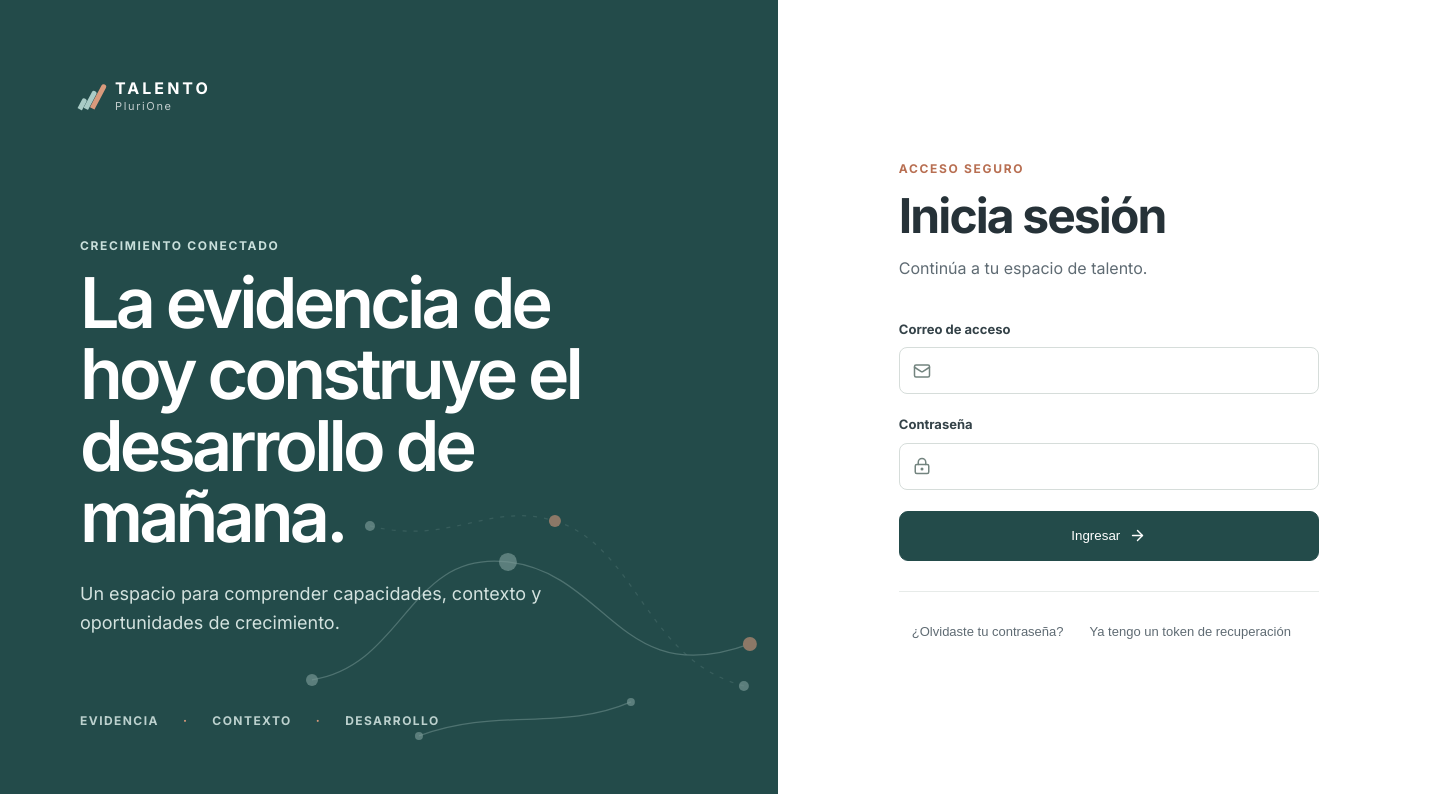
App — rol RH › RH no entra a Mi progreso
The width and height of the screenshot is (1440, 794).
Type "persona@empresa.dev" into the field labelled "Correo de acceso" at (1109, 371), box [899,347,1319,394]
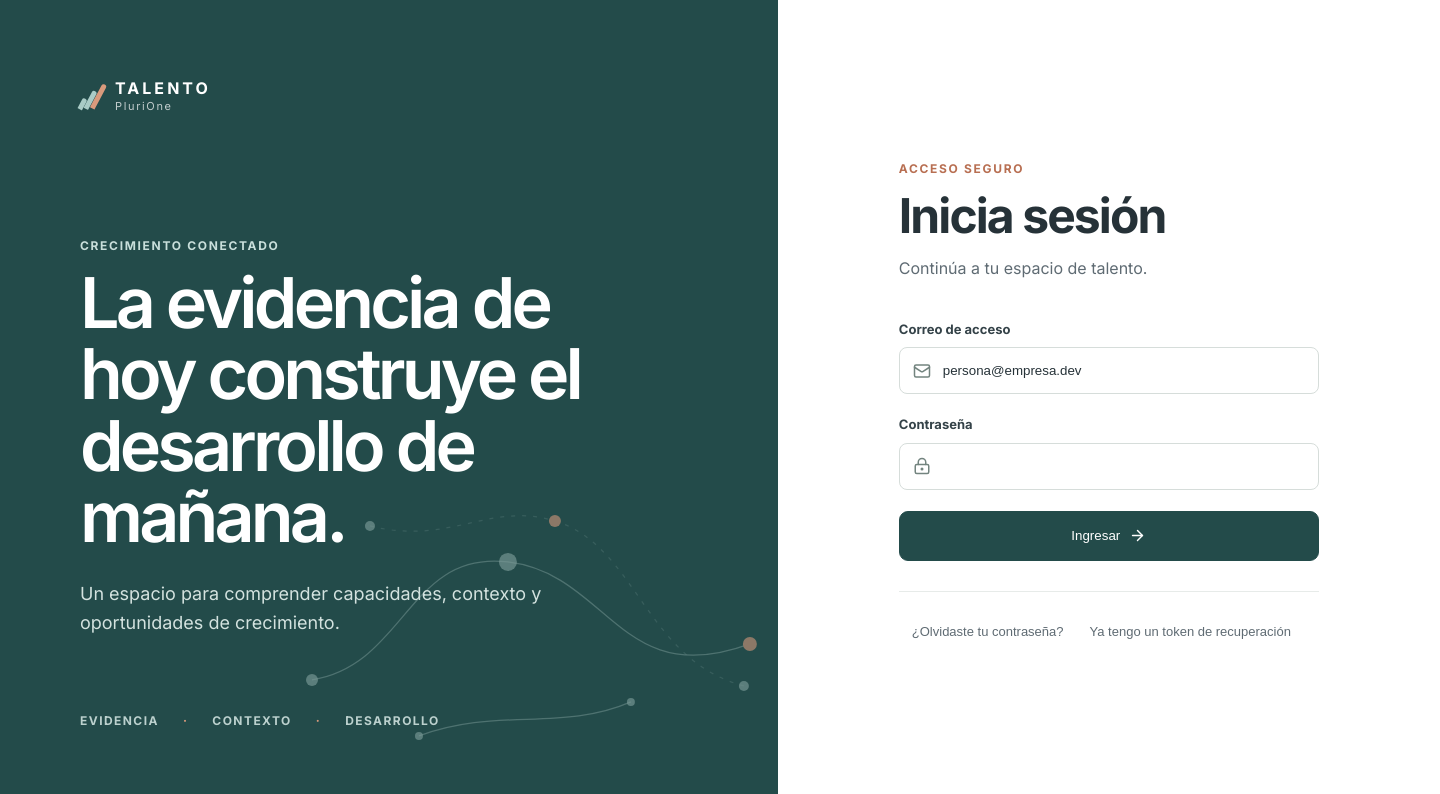
Type "temporal1" into the password field labelled "Contraseña" at (1109, 466), box [899,443,1319,490]
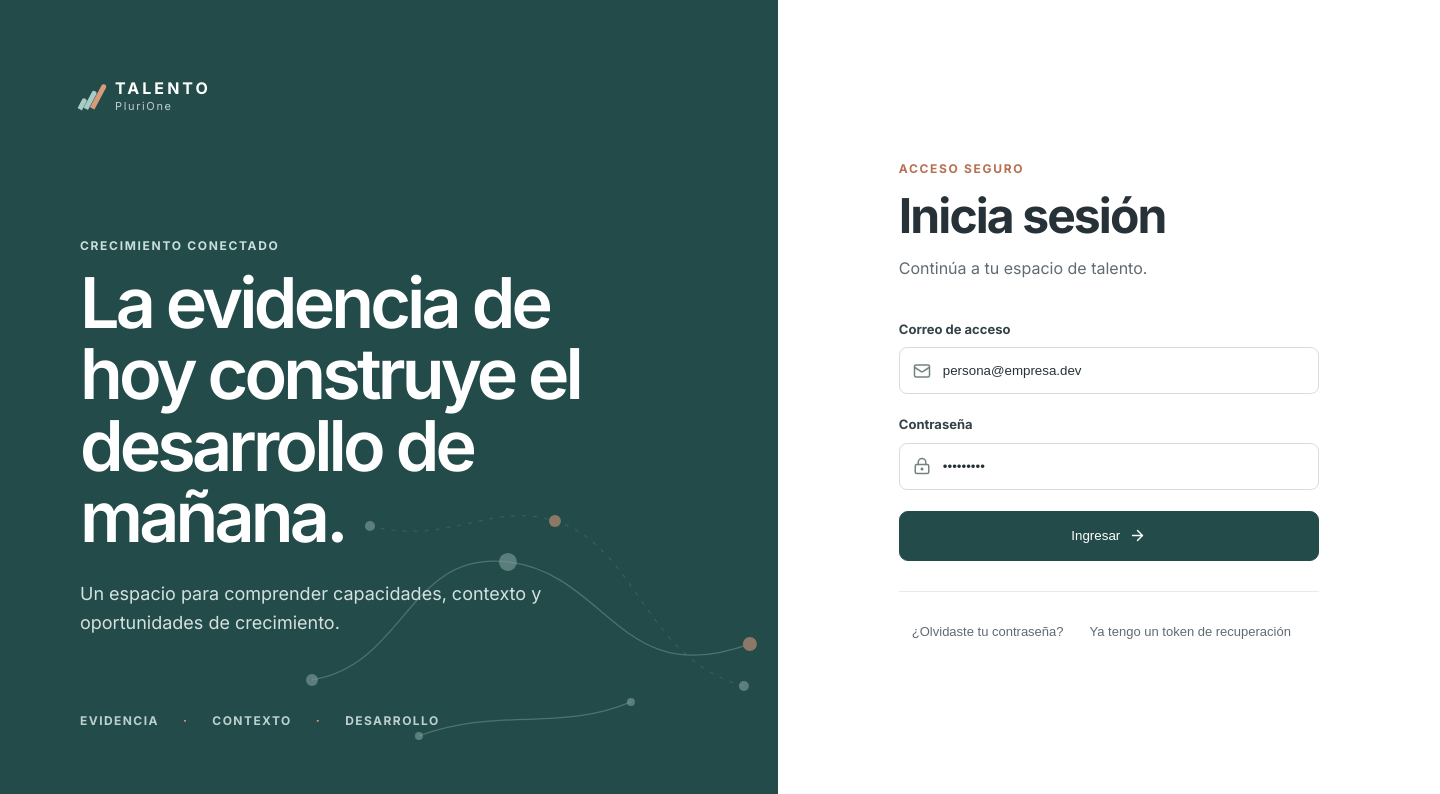
Click the button "Ingresar" at (1109, 536), box [899,511,1319,561]
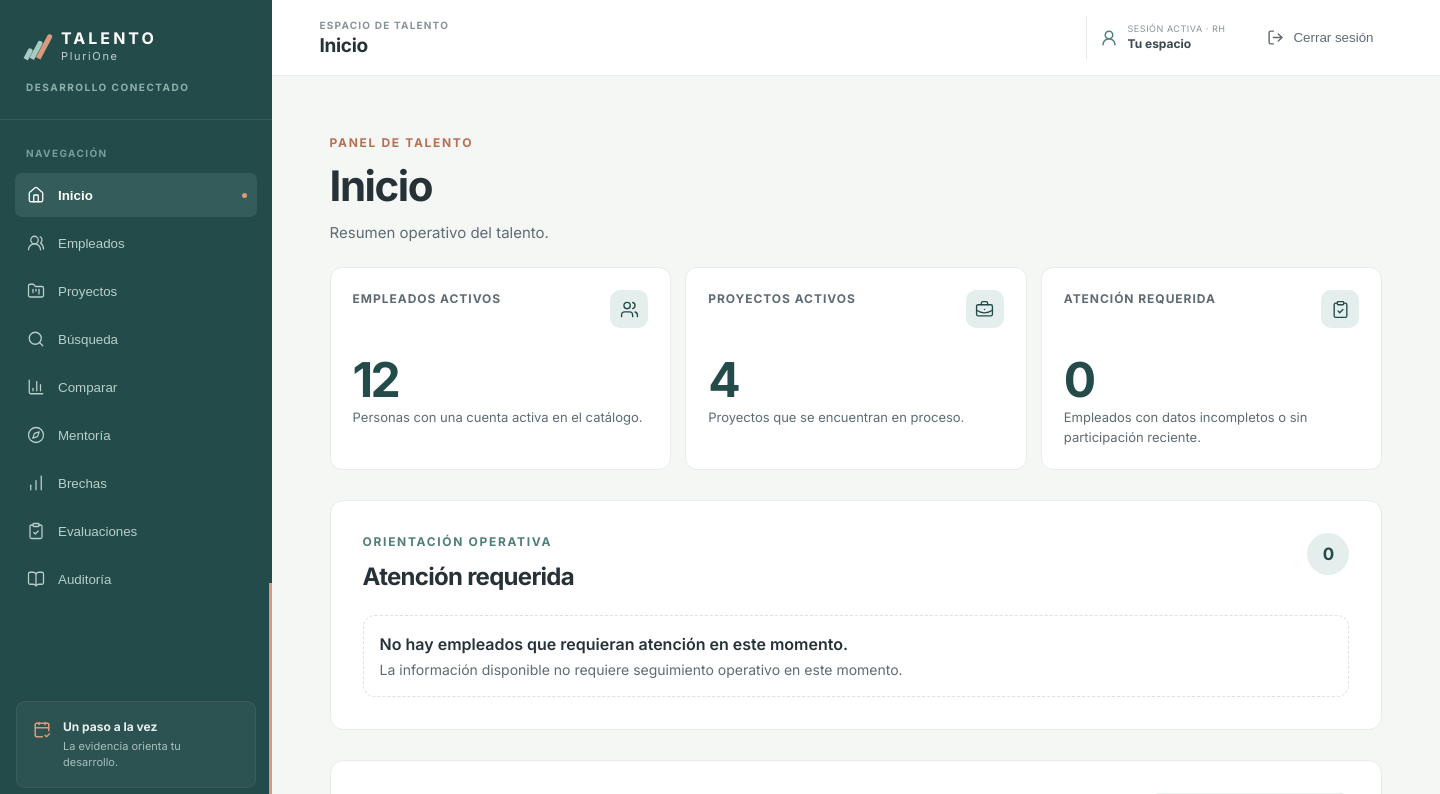
Expected: the heading "Inicio" below "Espacio de talento" is shown, [320,34,368,57]
Expected: the heading "Empleados activos" is shown, [353,290,501,308]
Expected: the heading "Proyectos activos" is shown, [708,290,856,308]
